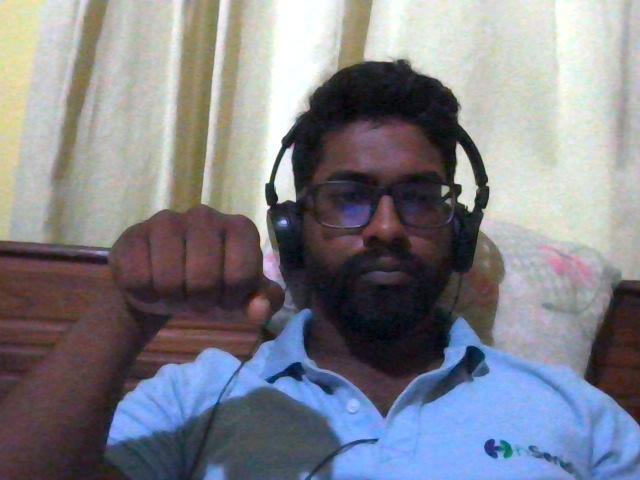Yes: (59, 179, 333, 404)
